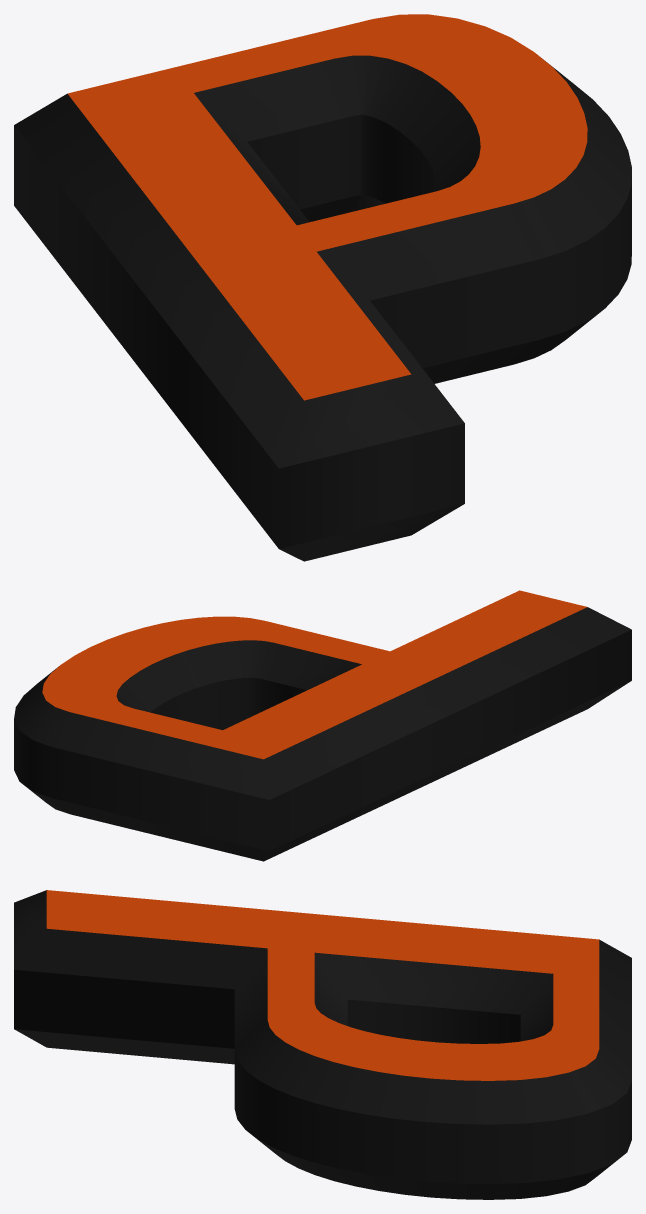
The picture shows the model from 3 angles, top to bottom: view 1: azimuth 30°, elevation 25°; view 2: azimuth 150°, elevation 25°; view 3: azimuth 270°, elevation 25°; orthographic projection. The views are drawn at different scales.
Parts seen in each view (by area): view 1: Text; view 2: Text; view 3: Text.
Part boxes in pixels (x1,y1,x2,y2): Text: [14, 14, 631, 561]; Text: [14, 590, 631, 861]; Text: [14, 890, 631, 1199].
Bounding box in the file's own units: 0.6403 × 0.16 × 0.7533.
